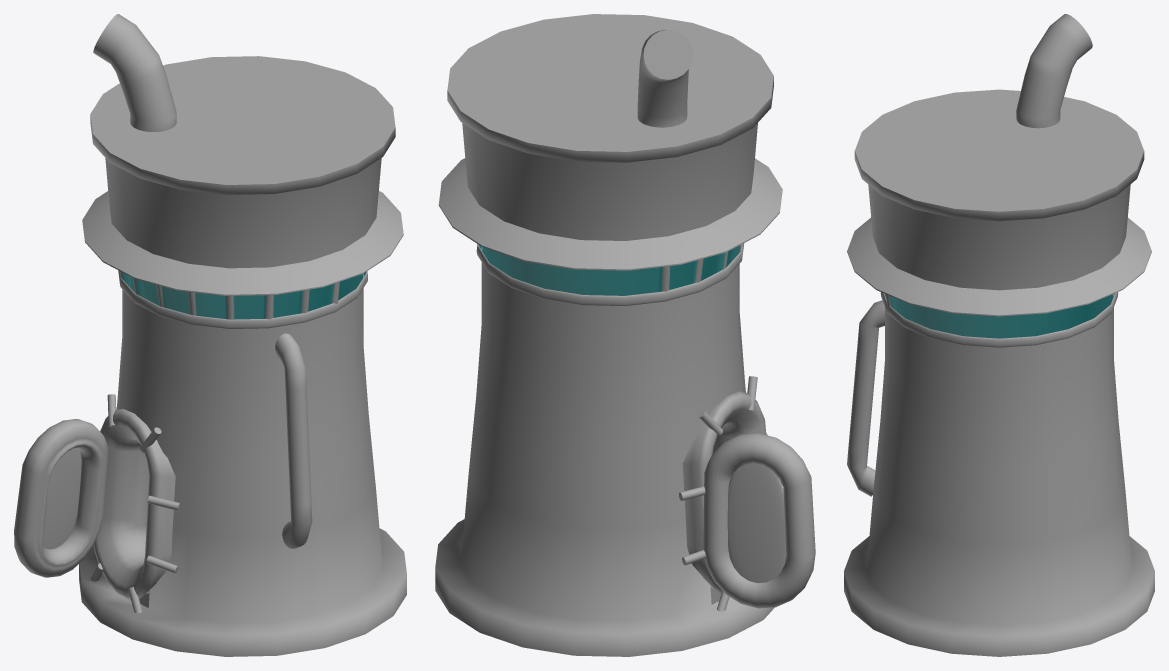
The model's file is casa dealer.fbx.
3 views of the same model, side by side, from view 1: azimuth 30°, elevation 25°; view 2: azimuth 150°, elevation 25°; view 3: azimuth 270°, elevation 25° (orthographic). The views are drawn at different scales.
Parts seen in each view (by area): view 1: pCylinder1, pTorus3, pCylinder2, pTorus1, pCylinder16, pCylinder17, pPipe1, pTorus4; view 2: pCylinder1, pTorus3, pCylinder2, pPipe1, pTorus1, pCylinder16, pTorus4; view 3: pCylinder1, pCylinder2, pCylinder16, pPipe1, pCylinder17, pTorus4.
Boxes of the visible parts, box(x1,y1,x2,y2) form: pCylinder1: box(79, 56, 406, 656); pTorus3: box(14, 419, 108, 577); pCylinder2: box(82, 191, 403, 295); pTorus1: box(93, 409, 175, 600); pCylinder16: box(93, 14, 176, 131); pCylinder17: box(275, 333, 312, 548); pPipe1: box(122, 272, 365, 319); pTorus4: box(118, 270, 367, 329); pCylinder1: box(435, 14, 774, 656); pTorus3: box(703, 433, 815, 608); pCylinder2: box(438, 158, 782, 270); pPipe1: box(479, 245, 740, 295); pTorus1: box(682, 391, 766, 594); pCylinder16: box(637, 29, 692, 127); pTorus4: box(476, 243, 744, 306); pCylinder1: box(844, 89, 1154, 656); pCylinder2: box(847, 217, 1151, 316); pCylinder16: box(1016, 14, 1092, 128); pPipe1: box(884, 293, 1114, 338); pCylinder17: box(847, 300, 884, 496); pTorus4: box(880, 292, 1118, 347).
Size of the model in its own units: 13.29 by 20.5 by 10.82.
